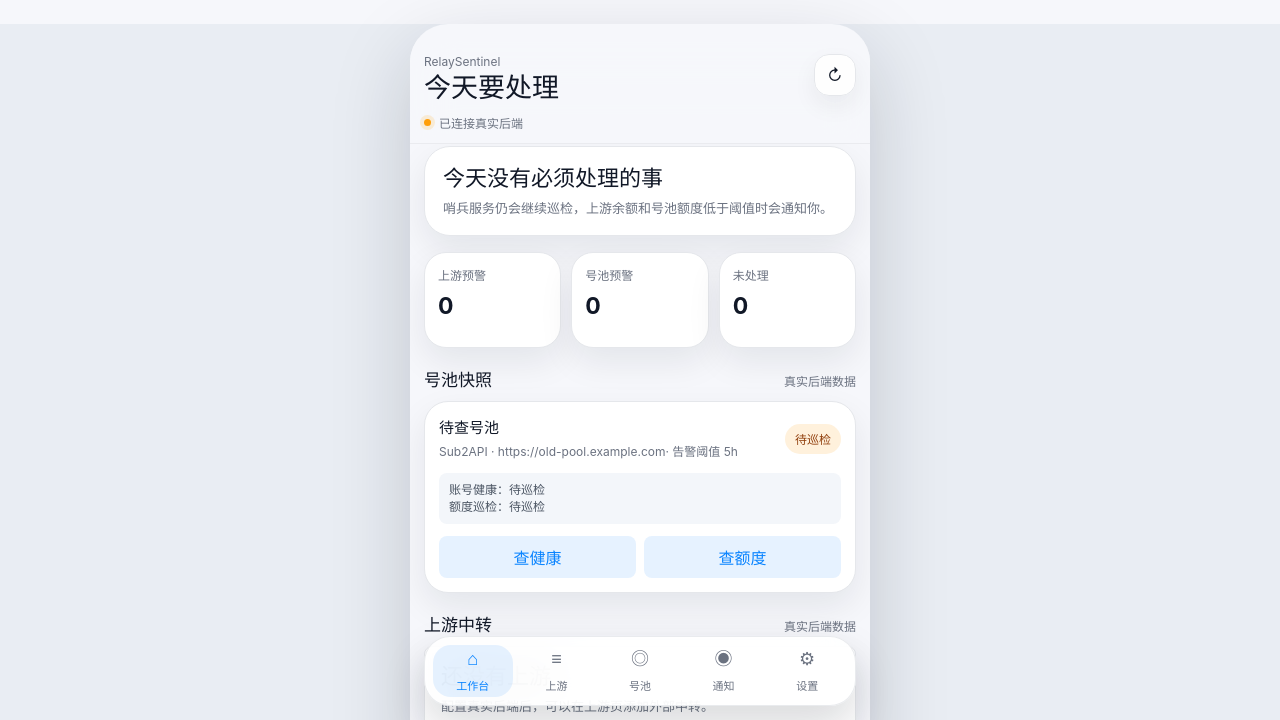
it: App workbench › can manually run backend pool health and quota checks
Click the button "◎ 号池": [640, 671] box x1=600 y1=645 x2=680 y2=697
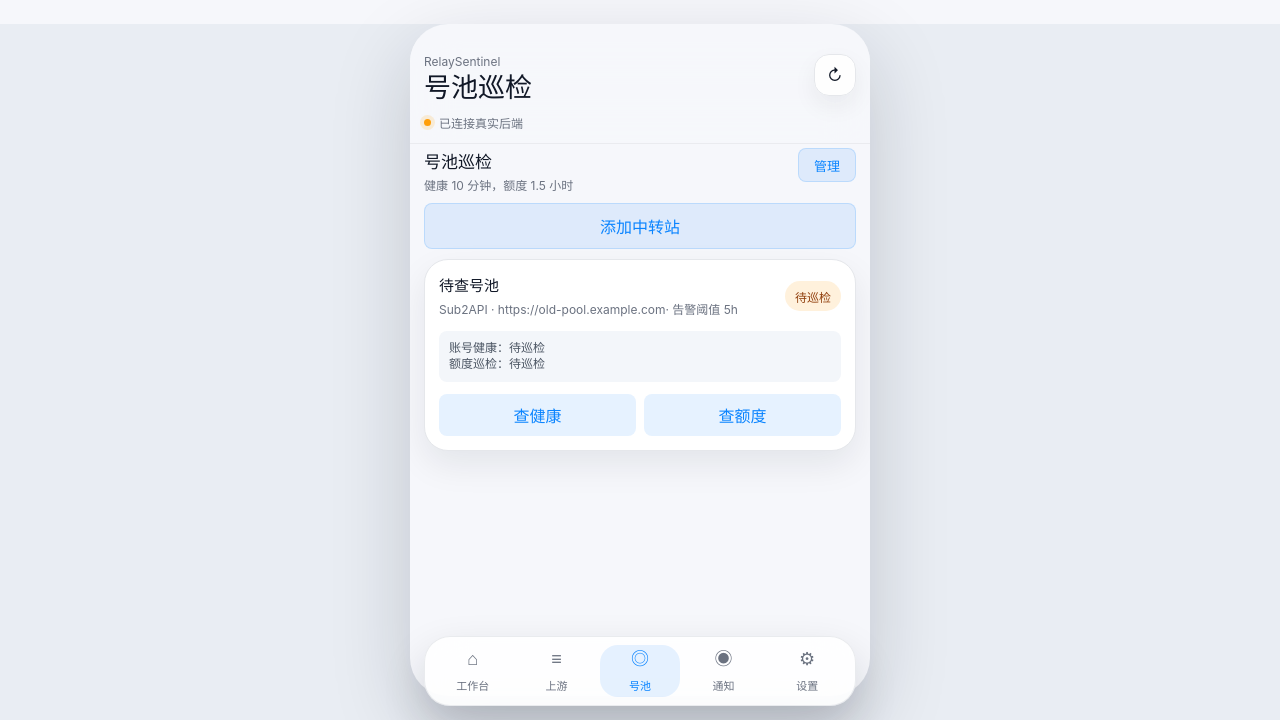
Click the button "查健康": [538, 415] box x1=439 y1=394 x2=636 y2=436
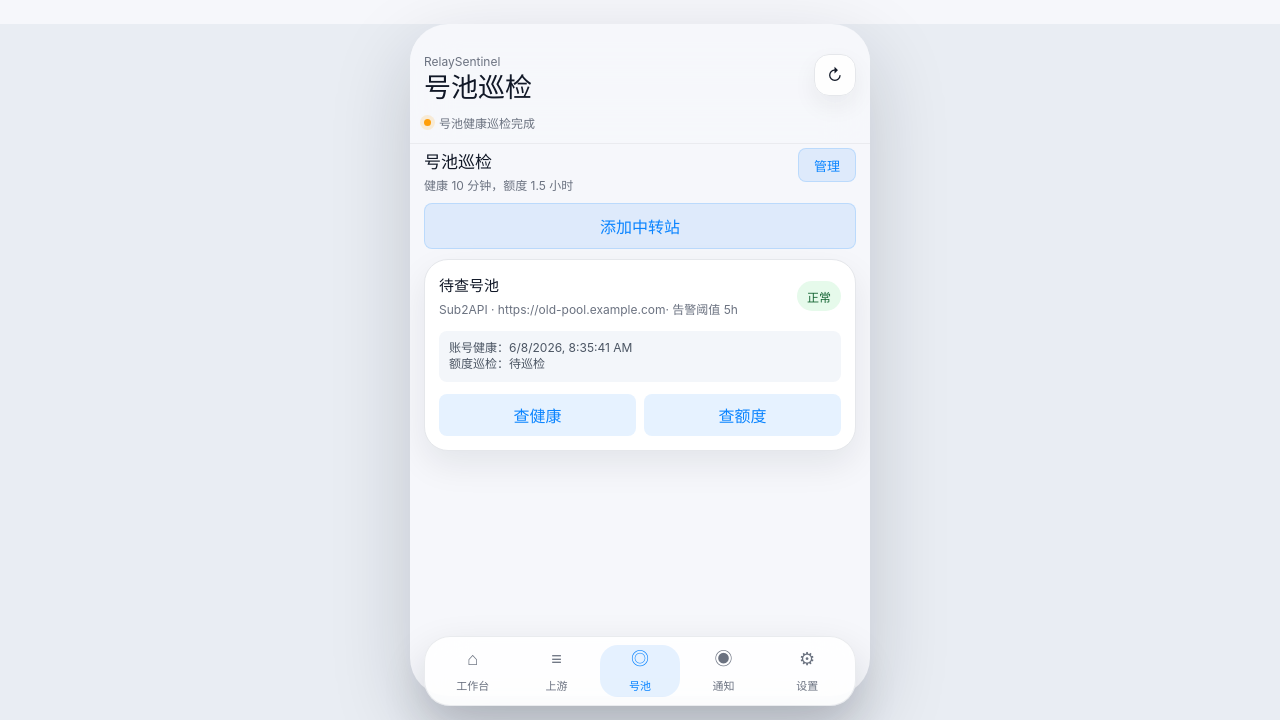
Expected: the text "号池健康巡检完成" is shown, x1=424 y1=116 x2=535 y2=131
Expected: the text "账号健康：待巡检" is gone
Click the button "查额度": [742, 415] box x1=644 y1=394 x2=841 y2=436
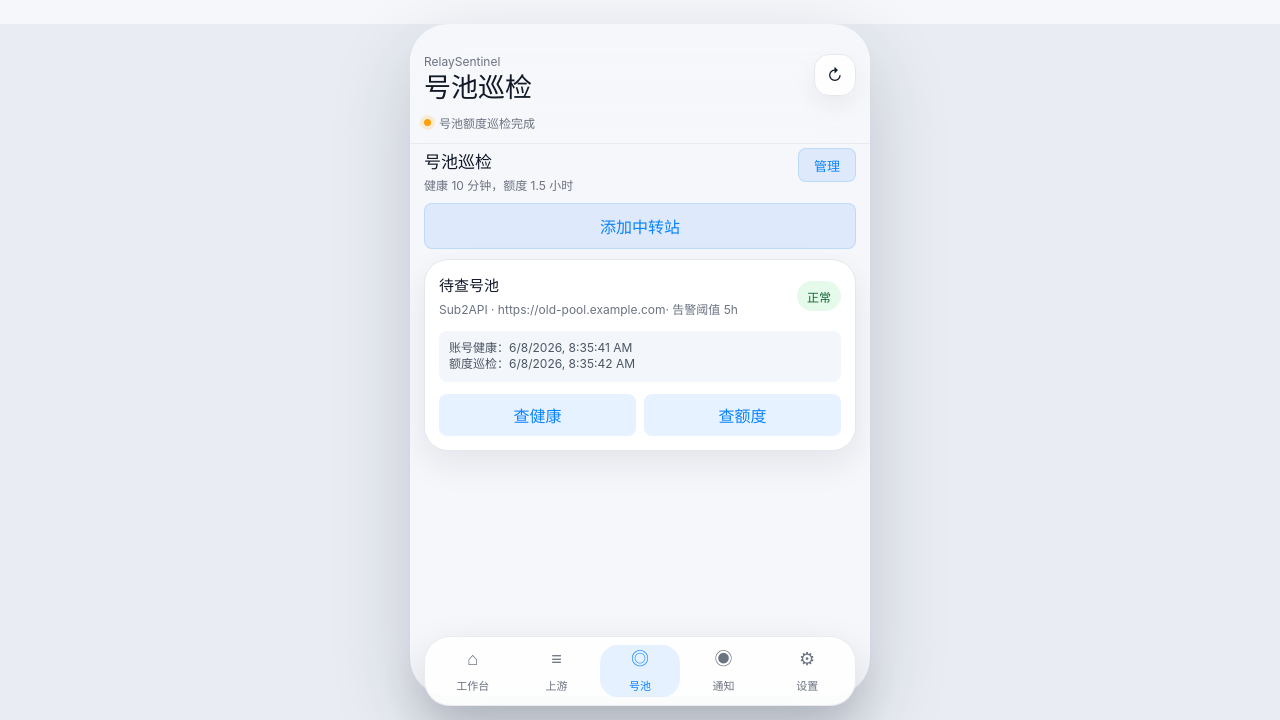
Expected: the text "号池额度巡检完成" is shown, x1=424 y1=116 x2=535 y2=131
Expected: the text "额度巡检：待巡检" is gone
